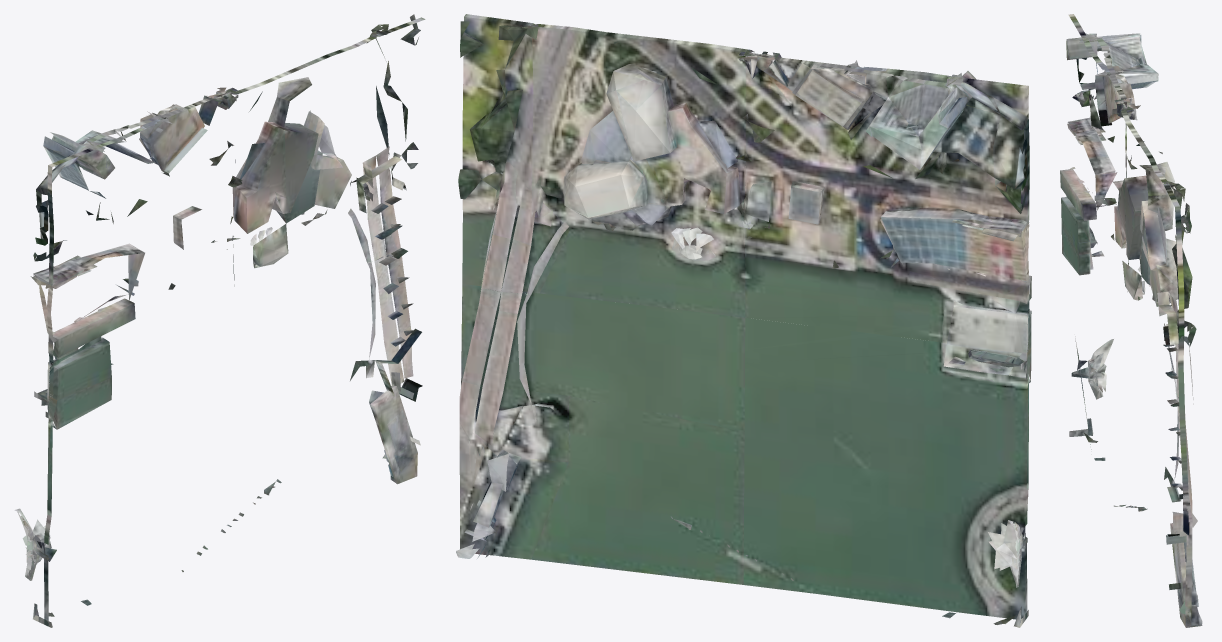
The model's file is tile_009.glb.
The picture shows the model from 3 angles, left to right: view 1: azimuth 30°, elevation 25°; view 2: azimuth 150°, elevation 25°; view 3: azimuth 270°, elevation 25°; orthographic projection. The views are drawn at different scales.
Size of the model in its own units: 611 by 609 by 193.
2 materials, 2 textured.
